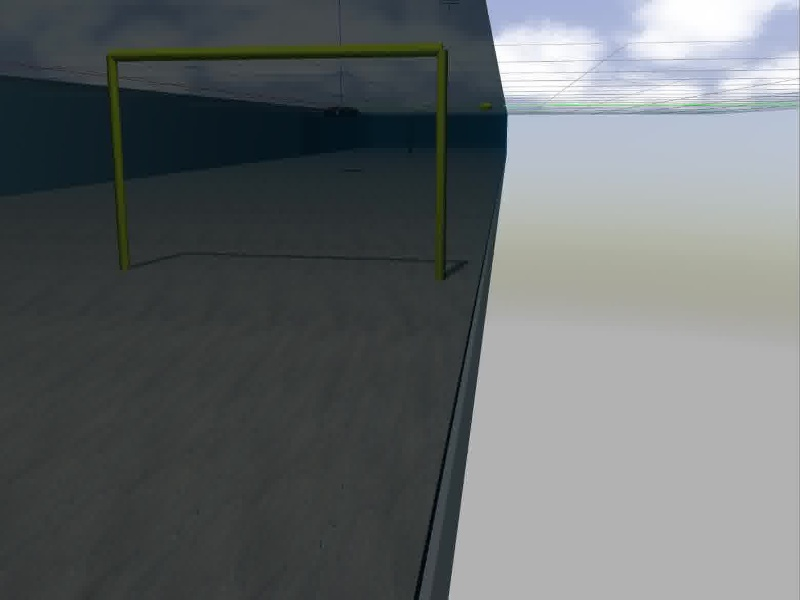gate: (105, 47, 450, 276)
